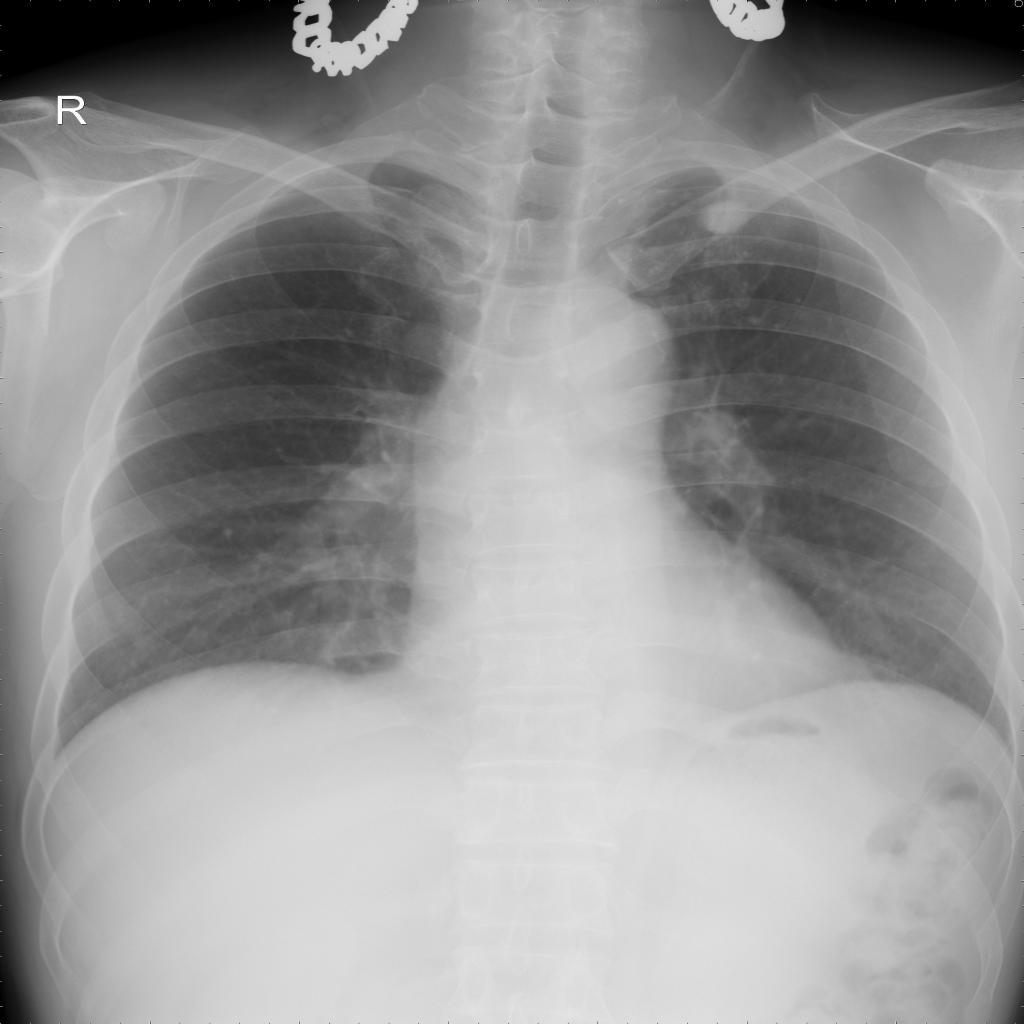Nodule: (699, 201, 750, 236)
